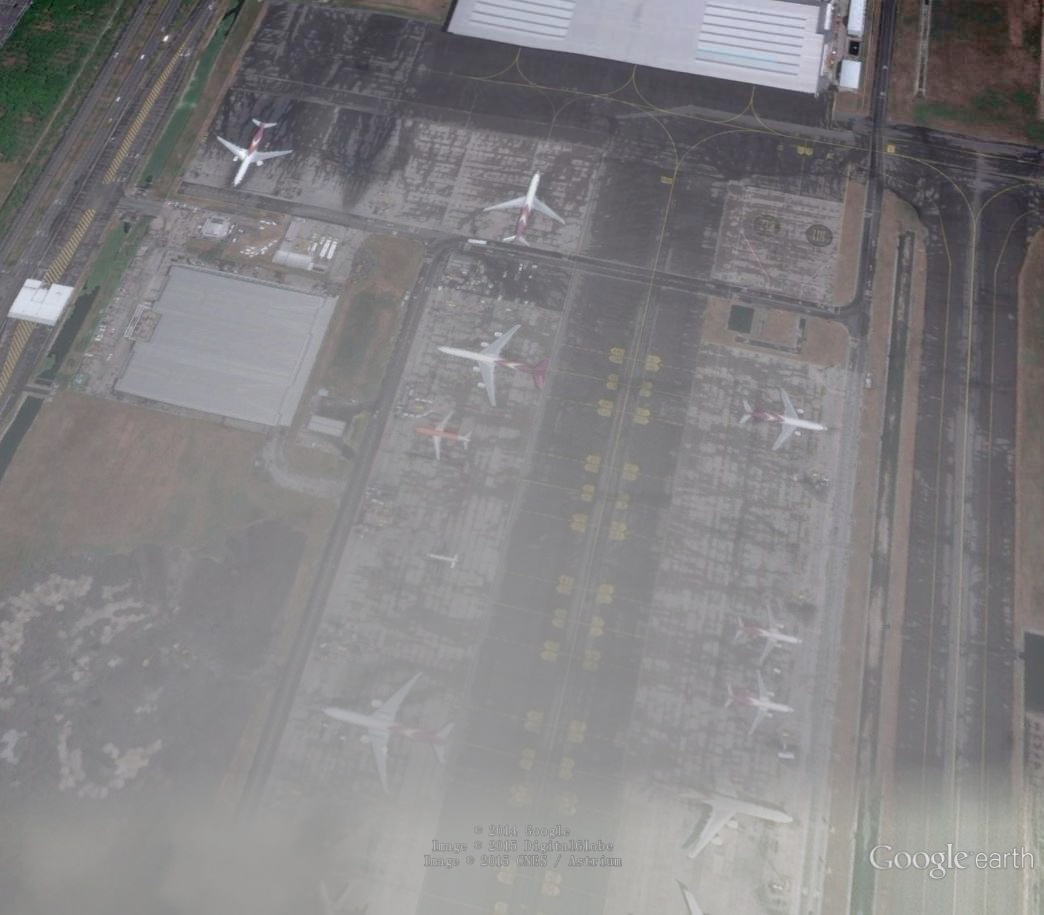aircraft: (318, 669, 460, 801), (634, 753, 799, 864), (435, 322, 555, 415), (477, 169, 570, 253), (733, 385, 838, 457), (211, 117, 298, 196), (717, 666, 798, 741), (729, 595, 808, 670), (412, 408, 481, 463), (423, 549, 463, 574)
